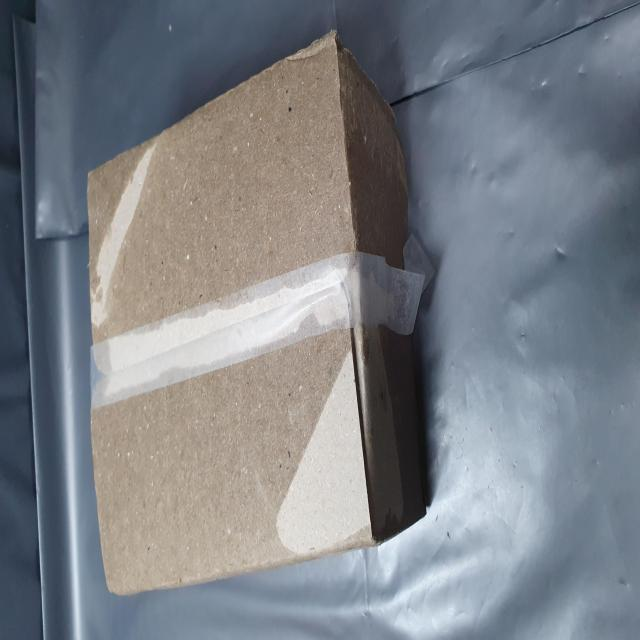wet: (194, 152, 344, 622), (24, 164, 138, 485), (43, 466, 177, 626)
